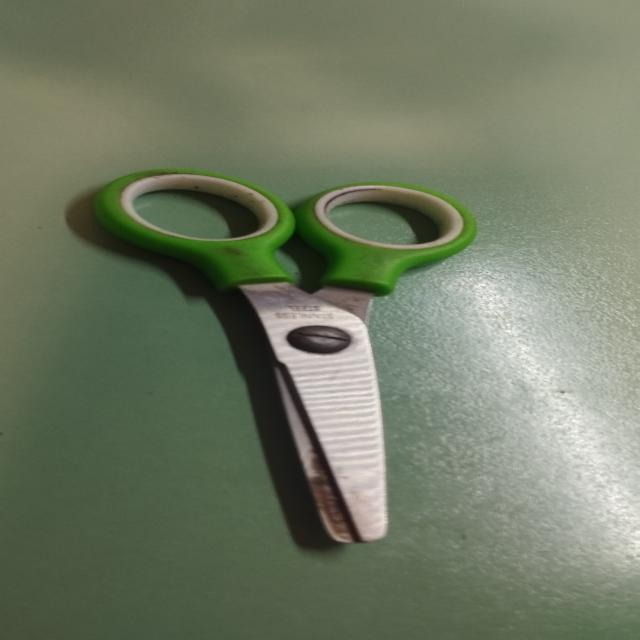tesoura: (61, 160, 487, 555)
